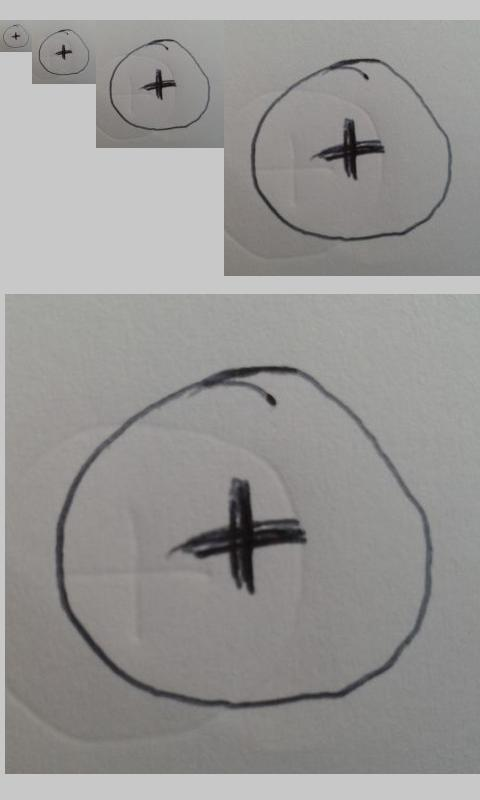button: (53, 364, 435, 709), (251, 57, 453, 242), (108, 38, 212, 131), (38, 28, 90, 76), (2, 23, 30, 49)
